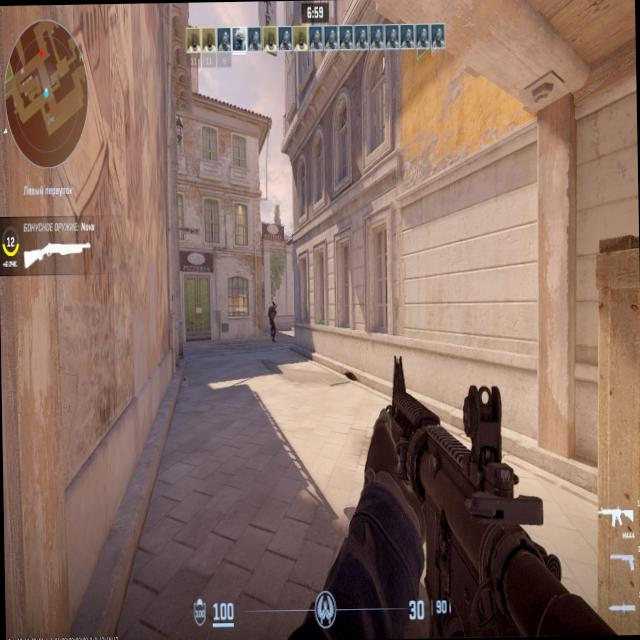CT: (268, 298, 278, 336)
CT_heat: (270, 302, 276, 308)
